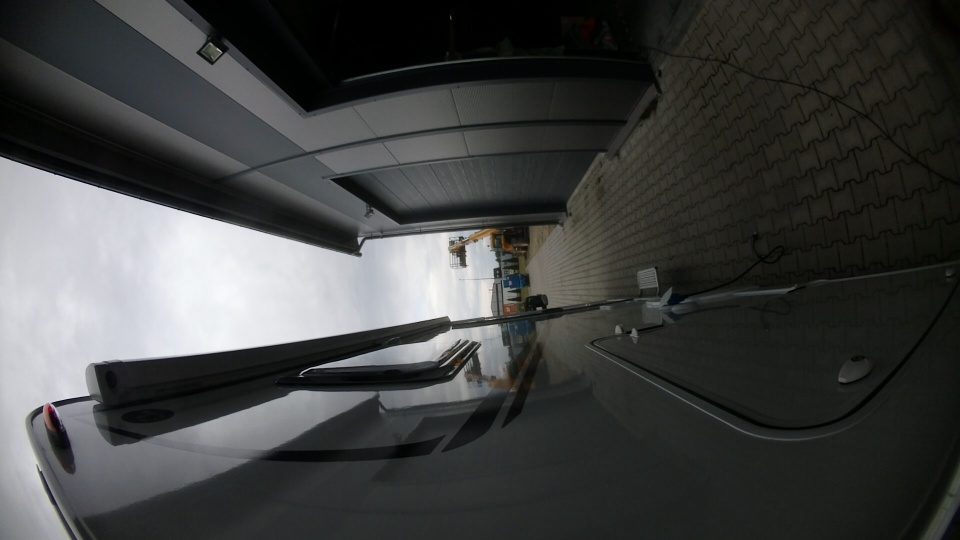step_back: (629, 261, 668, 300)
